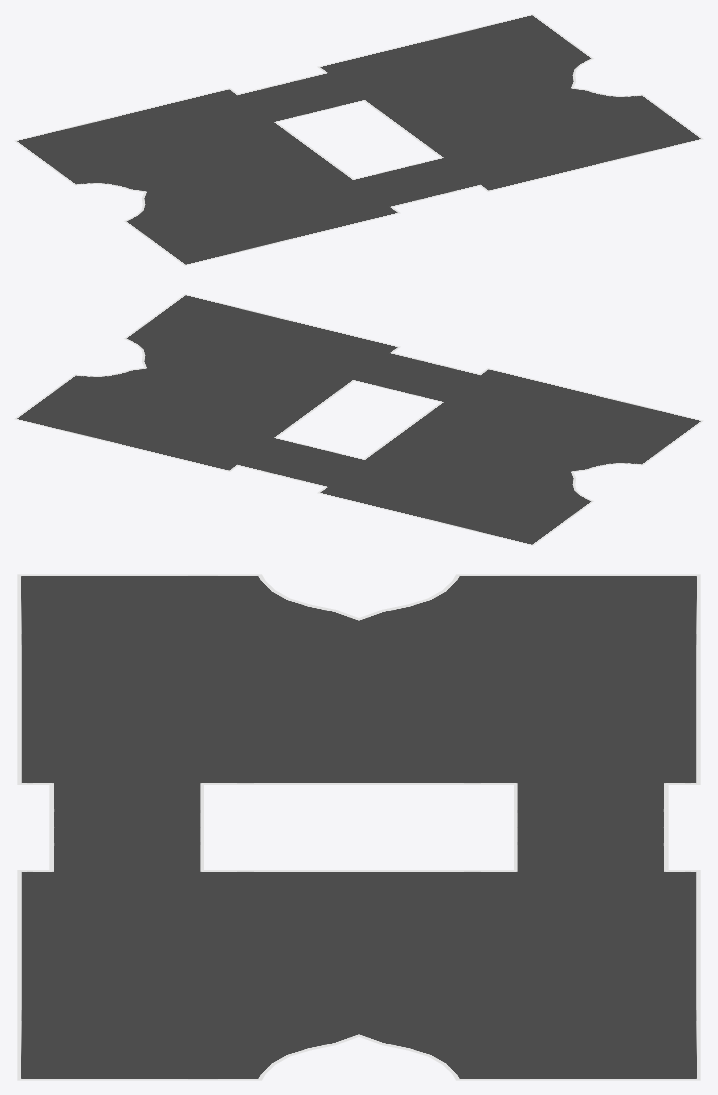
File: ramkaMagic.fbx
3 renders of one model, top to bottom at view 1: azimuth 30°, elevation 25°; view 2: azimuth 150°, elevation 25°; view 3: azimuth 270°, elevation 25°, orthographic. The views are drawn at different scales.
Visible parts, largest first — view 1: FullQuarterMagic; view 2: FullQuarterMagic; view 3: FullQuarterMagic.
Boxes of the visible parts, bbox=[...] form: FullQuarterMagic: bbox=[14, 14, 703, 265]; FullQuarterMagic: bbox=[14, 294, 703, 545]; FullQuarterMagic: bbox=[17, 574, 700, 1080].
Bounding box in the file's own units: 2502 × 0 × 1427.
